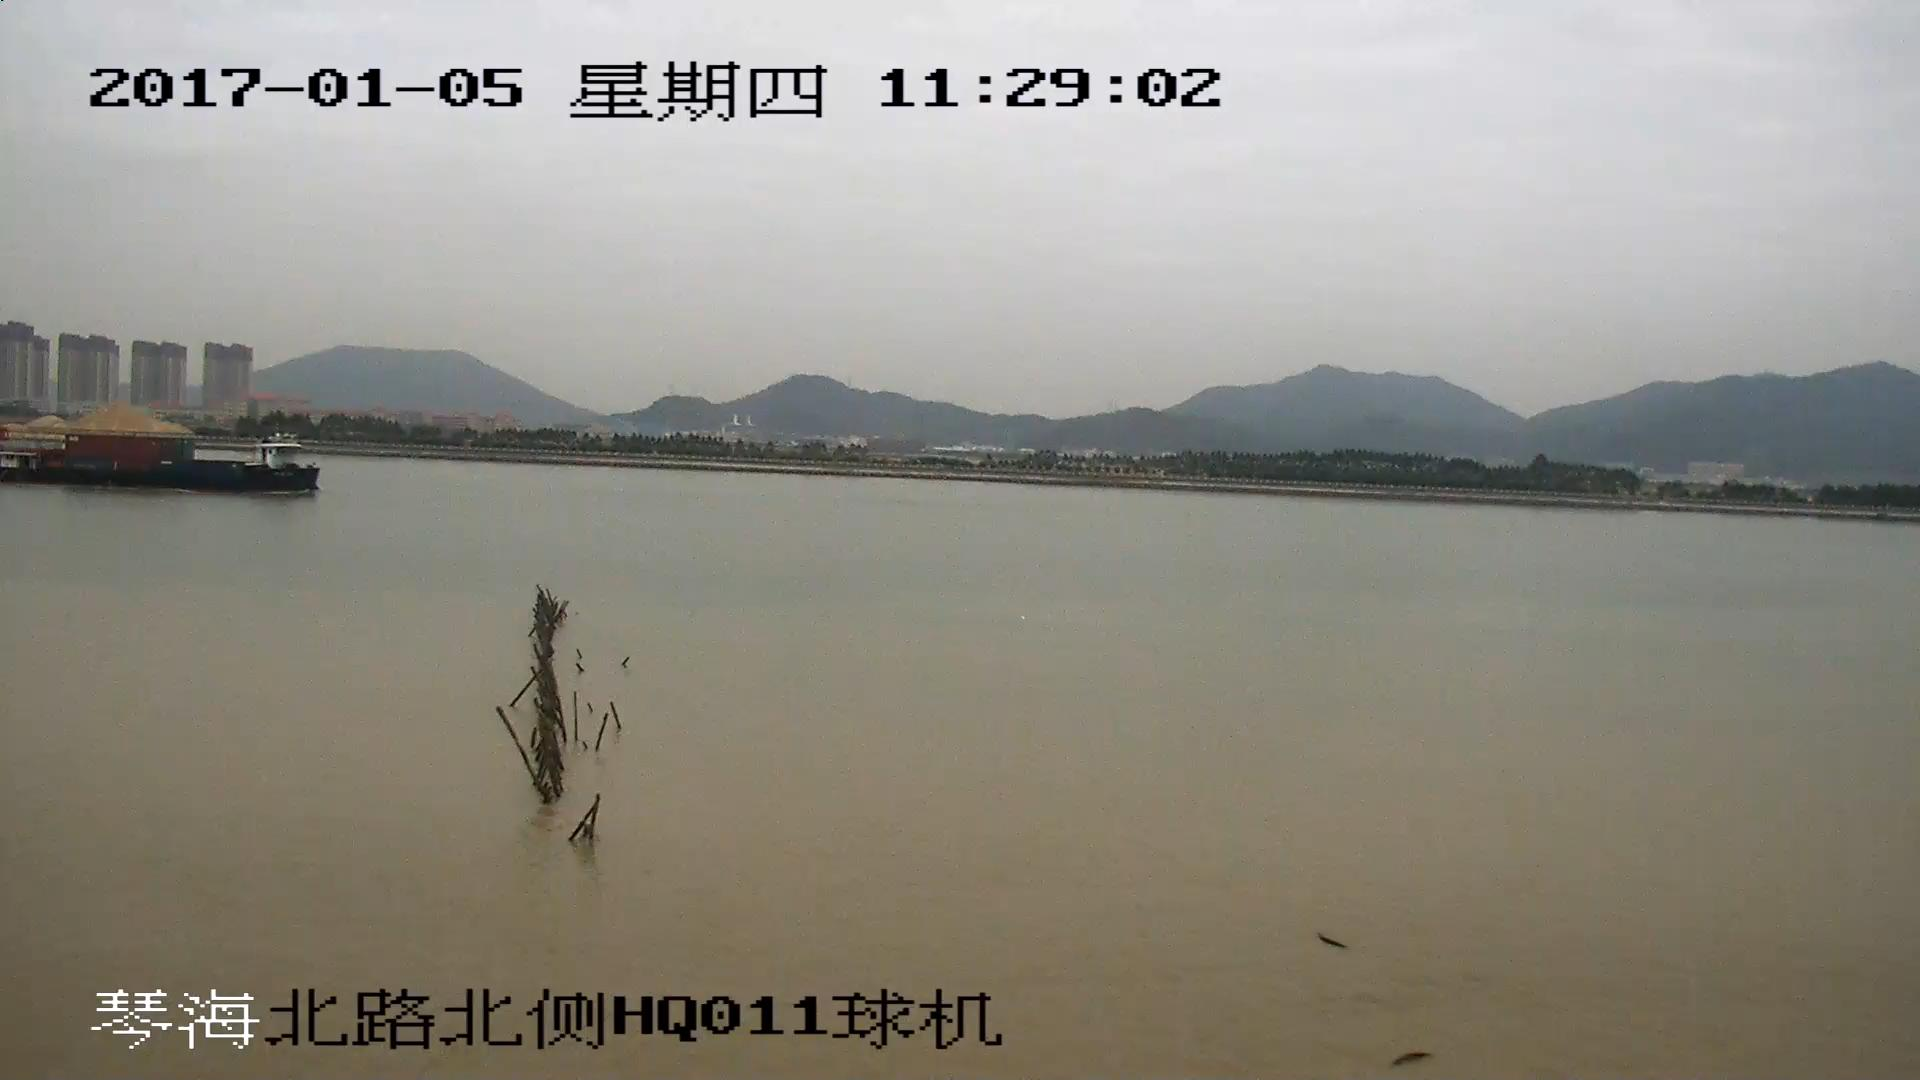container ship: (1, 436, 319, 494)
